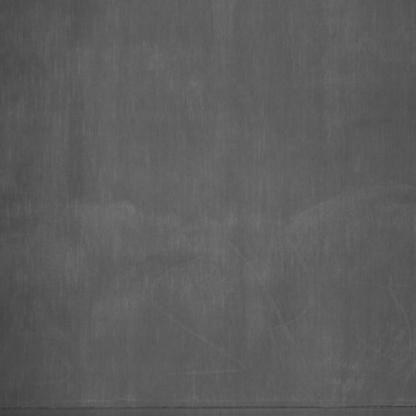welding_line: (0, 398, 411, 413)
